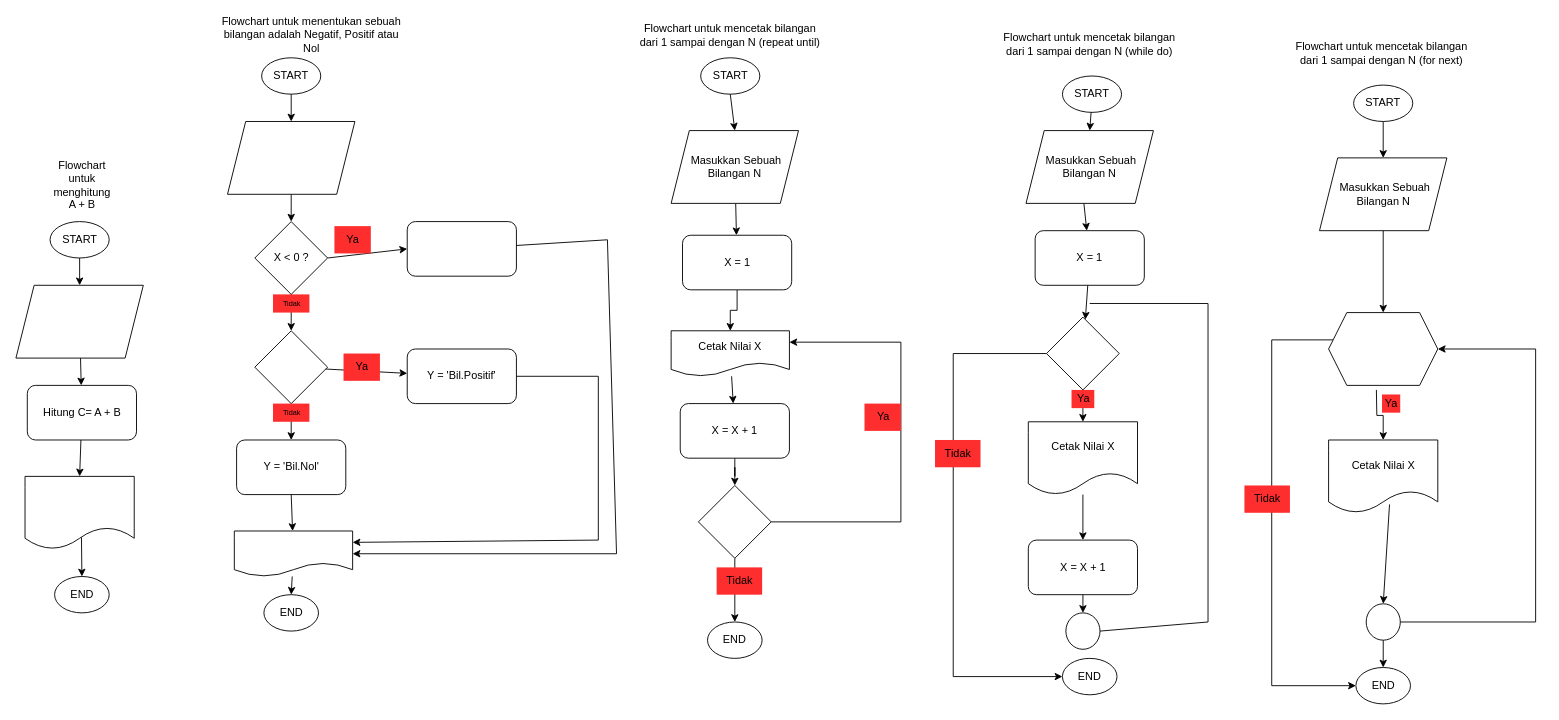
Some shapes in this 1559 by 720 pixel diagram are drawn without their labels. Here are the shapes that lost their labels. From the top down, the centre of each, then its label:
At pixel 291 157: "Masukkan Sebuah Bilangan X".
At pixel 461 248: "Y = 'Bil.Negatif'".
At pixel 79 321: "Masukkan Nilai A, B".
At pixel 291 367: "X > 0 ?".
At pixel 1082 353: "X <= N ?".
At pixel 1383 348: "For X = 1 to N".
At pixel 79 512: "Cetak Nilai C".
At pixel 734 521: "X <= N".
At pixel 293 553: "Cetak Nilai Y".
